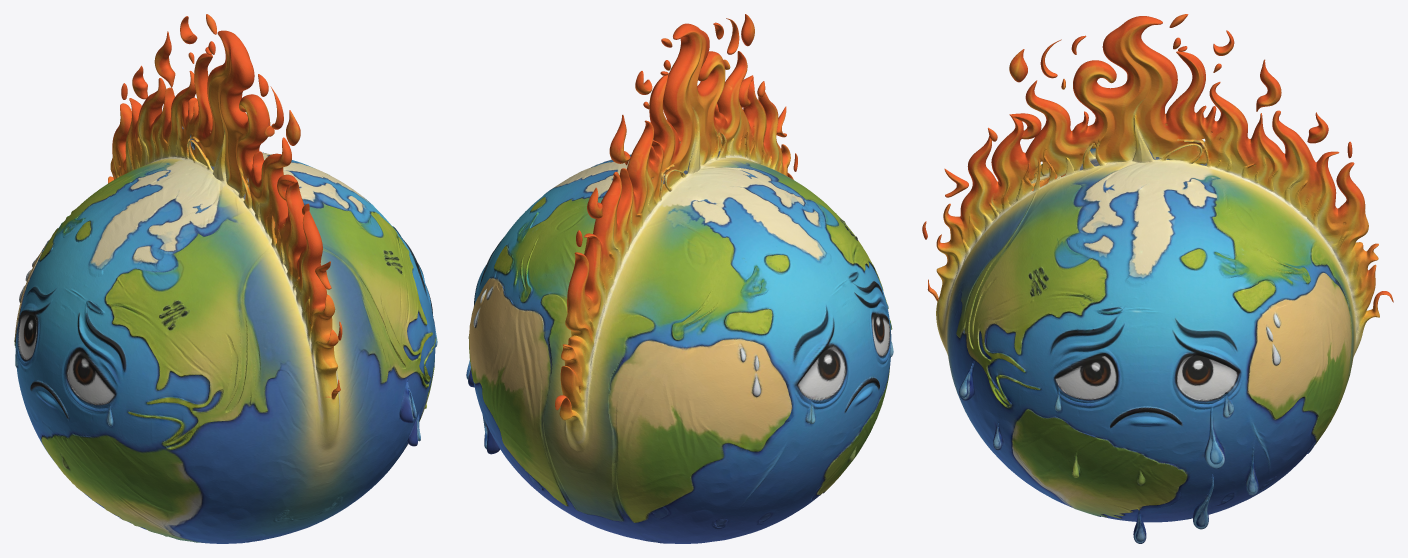
Rendered from global-warming.glb.
3 renders of one model, left to right at view 1: azimuth 30°, elevation 25°; view 2: azimuth 150°, elevation 25°; view 3: azimuth 270°, elevation 25°, orthographic. The views are drawn at different scales.
Visible parts, largest first — view 1: tripo_node_9cfb92ff-d532-4ff4-9286-3c7b72f67b28; view 2: tripo_node_9cfb92ff-d532-4ff4-9286-3c7b72f67b28; view 3: tripo_node_9cfb92ff-d532-4ff4-9286-3c7b72f67b28.
Boxes of the visible parts, box(x1,y1,x2,y2) form: tripo_node_9cfb92ff-d532-4ff4-9286-3c7b72f67b28: box(14, 14, 437, 543); tripo_node_9cfb92ff-d532-4ff4-9286-3c7b72f67b28: box(466, 14, 893, 543); tripo_node_9cfb92ff-d532-4ff4-9286-3c7b72f67b28: box(922, 14, 1393, 543).
Size of the model in its own units: 0.7777 by 0.9999 by 0.8775.
Materials: 1 (1 with a texture image).
